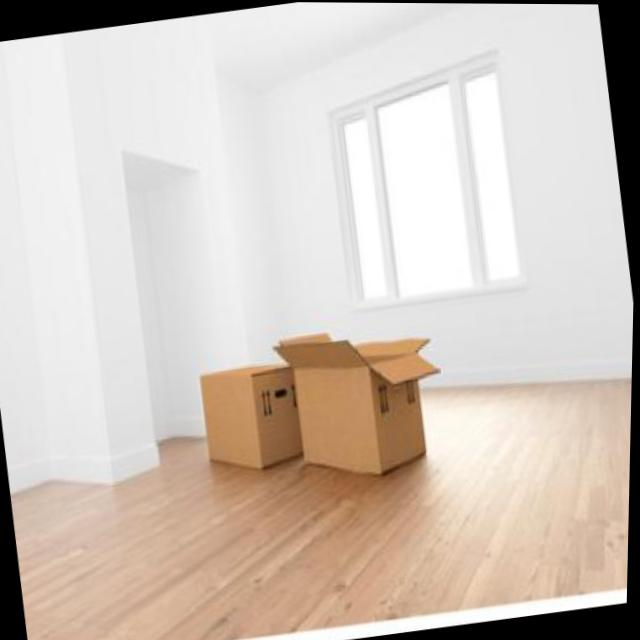box: (267, 286, 464, 511), (190, 345, 318, 493)
